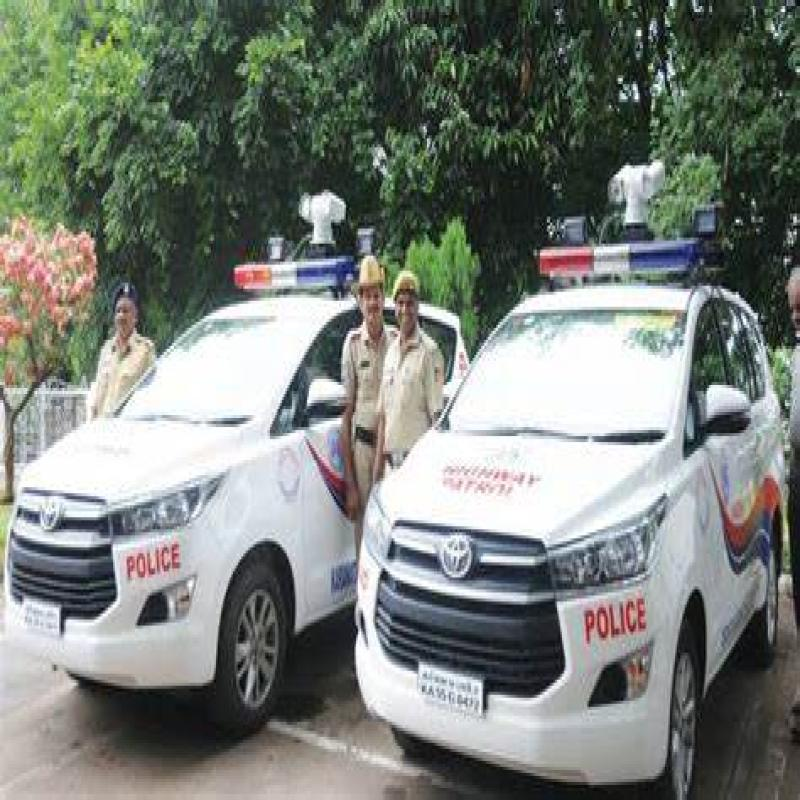AmbulanceSiren: (537, 219, 709, 293), (220, 241, 373, 302)
car: (408, 279, 794, 776)
